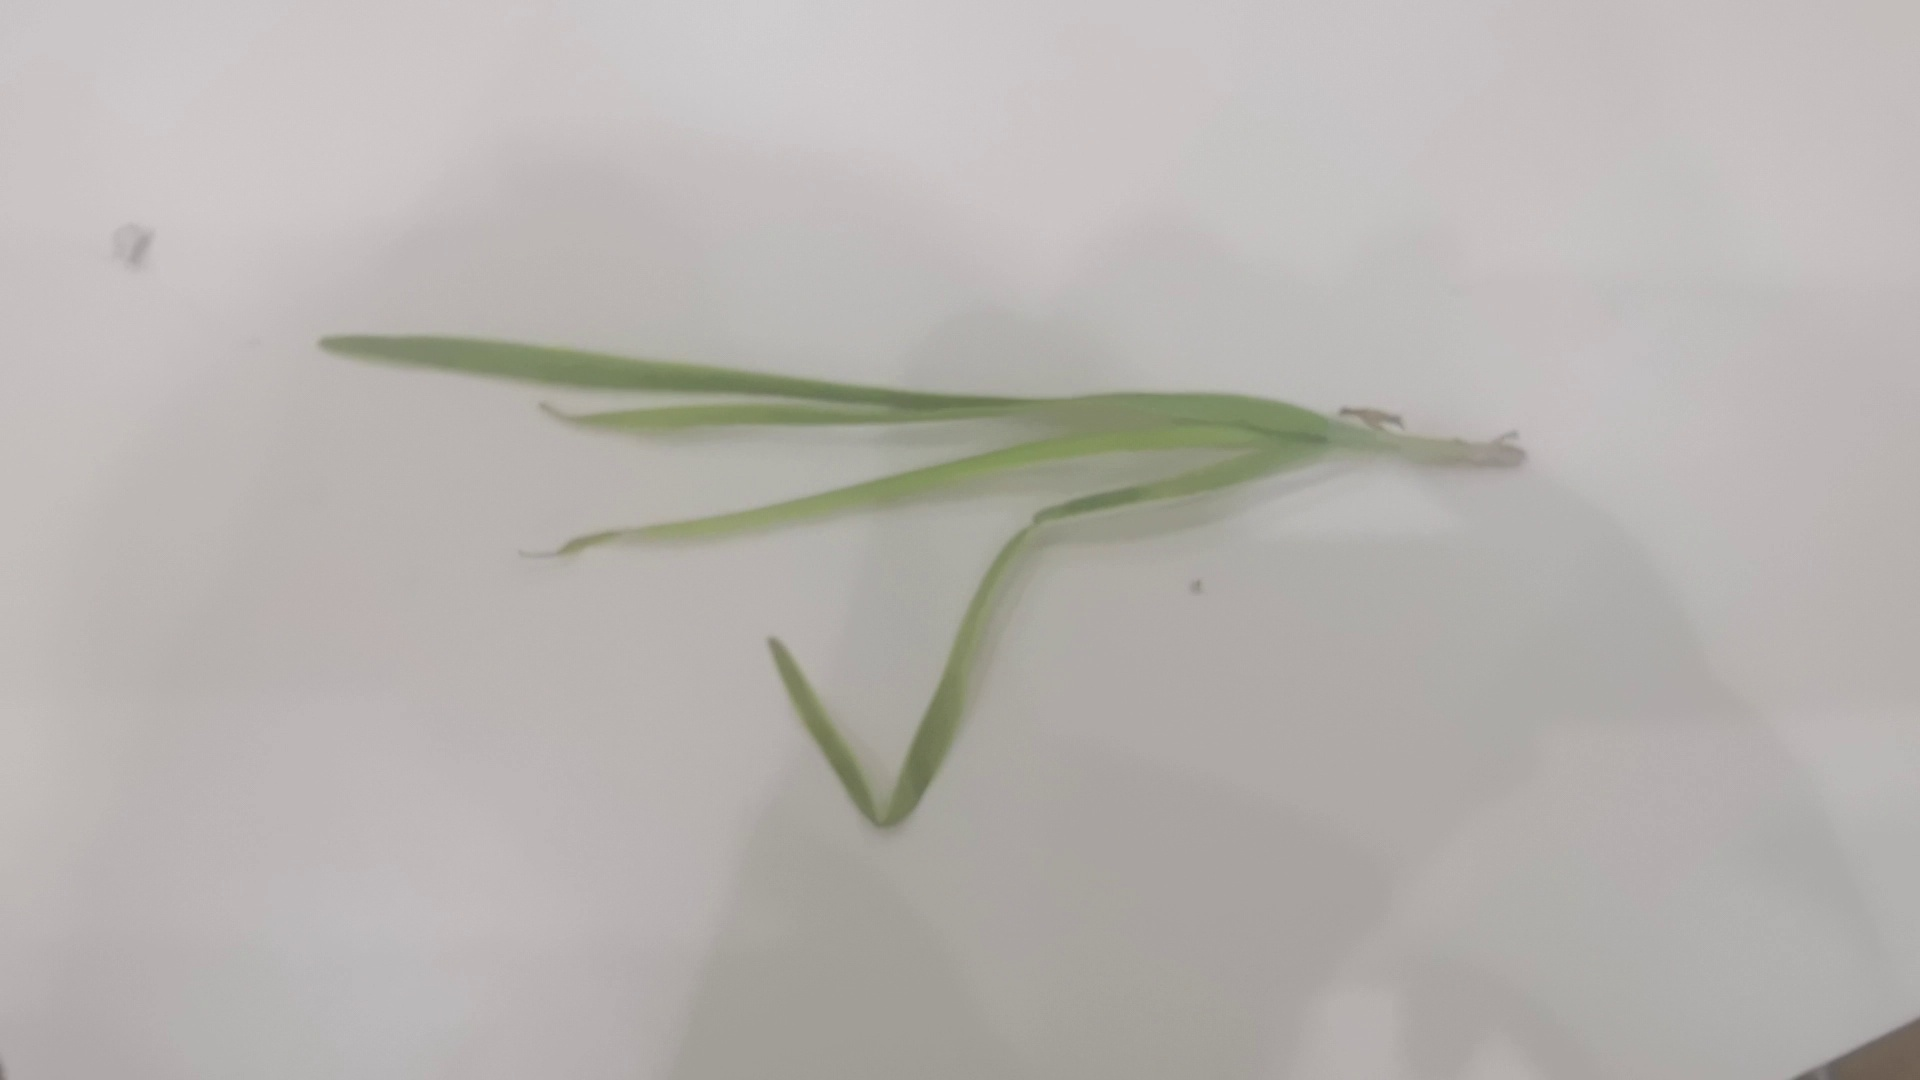chives: (313, 326, 1526, 852)
